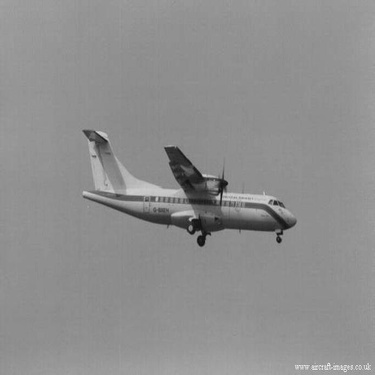airplane: (66, 122, 303, 253)
